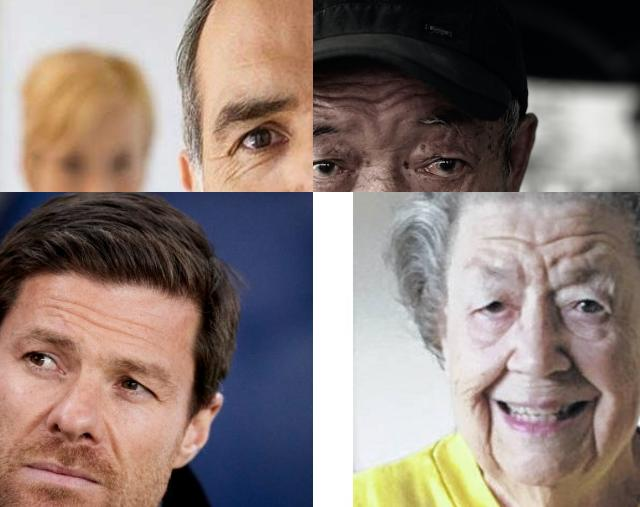crows_feet: (214, 140, 243, 176)
forehead: (541, 228, 603, 258), (474, 225, 528, 253), (370, 83, 414, 115), (118, 315, 152, 345), (50, 296, 80, 327), (329, 79, 359, 109), (87, 305, 111, 341), (313, 83, 322, 109)
frown_line: (512, 260, 556, 286)
gummy_smile: (565, 343, 607, 391), (478, 352, 510, 400), (105, 428, 125, 459), (28, 408, 52, 432)
sad_smile: (476, 401, 504, 463), (582, 406, 602, 461)
